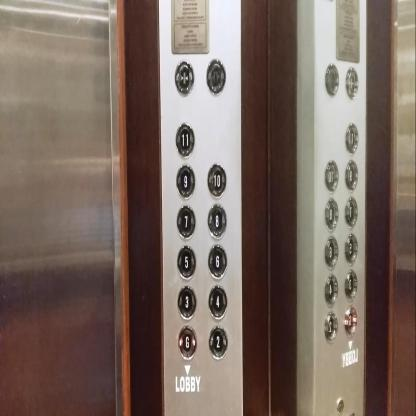10: (206, 160, 227, 200)
11: (174, 121, 195, 160)
2: (208, 324, 228, 362)
3: (176, 283, 197, 322)
4: (207, 282, 228, 322)
5: (176, 243, 197, 281)
6: (207, 243, 228, 281)
7: (176, 203, 196, 241)
8: (206, 203, 228, 240), (323, 196, 339, 232)
9: (175, 162, 196, 200)
G: (176, 323, 198, 362)
close: (173, 59, 195, 98), (344, 64, 360, 101)
empty: (324, 61, 340, 98)
open: (205, 58, 227, 96)
unknown: (344, 156, 360, 193), (344, 192, 360, 229), (344, 267, 360, 304), (322, 309, 338, 346), (322, 234, 338, 271), (344, 120, 360, 156), (344, 231, 360, 267), (344, 303, 360, 339), (322, 272, 338, 308), (322, 158, 338, 194)
